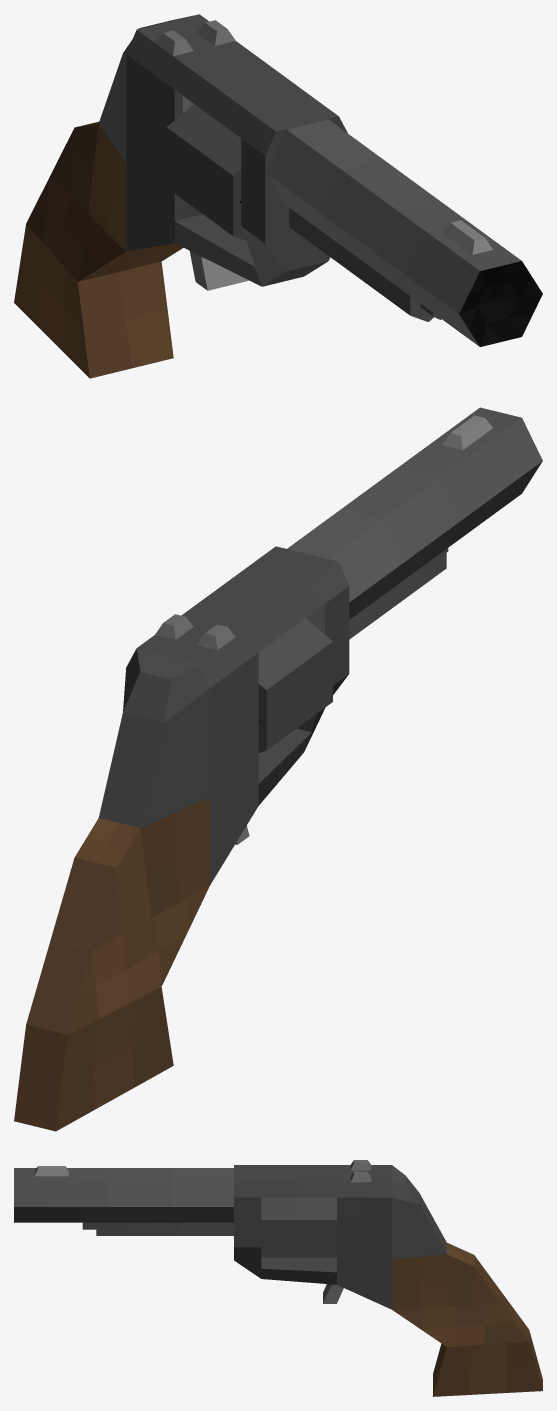
File: revolver.obj
3 renders of one model, top to bottom at view 1: azimuth 30°, elevation 25°; view 2: azimuth 150°, elevation 25°; view 3: azimuth 270°, elevation 25°, orthographic. The views are drawn at different scales.
Parts seen in each view (by area): view 1: breakActionModel, gunModel, cylinderModel; view 2: gunModel, breakActionModel, cylinderModel; view 3: gunModel, breakActionModel, cylinderModel.
Part boxes in pixels (x1,y1,x2,y2): breakActionModel: (174,50,542,346); gunModel: (14,14,248,378); cylinderModel: (166,104,246,240); gunModel: (14,613,258,1131); breakActionModel: (185,407,542,805); cylinderModel: (258,618,332,752); gunModel: (323,1160,542,1396); breakActionModel: (14,1165,336,1284); cylinderModel: (261,1197,336,1257).
Bounding box in the file's own units: 0.0744 × 0.2734 × 0.6016.
